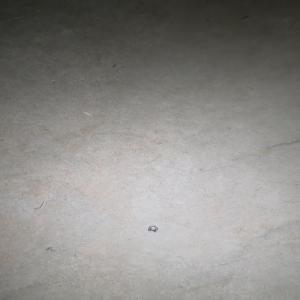Nut: (146, 225, 158, 232)
